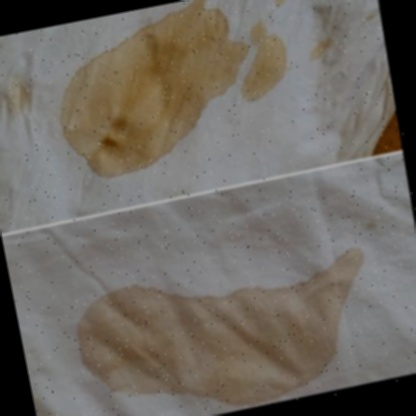coffee: (94, 276, 353, 402), (72, 56, 185, 146), (167, 10, 237, 92)
